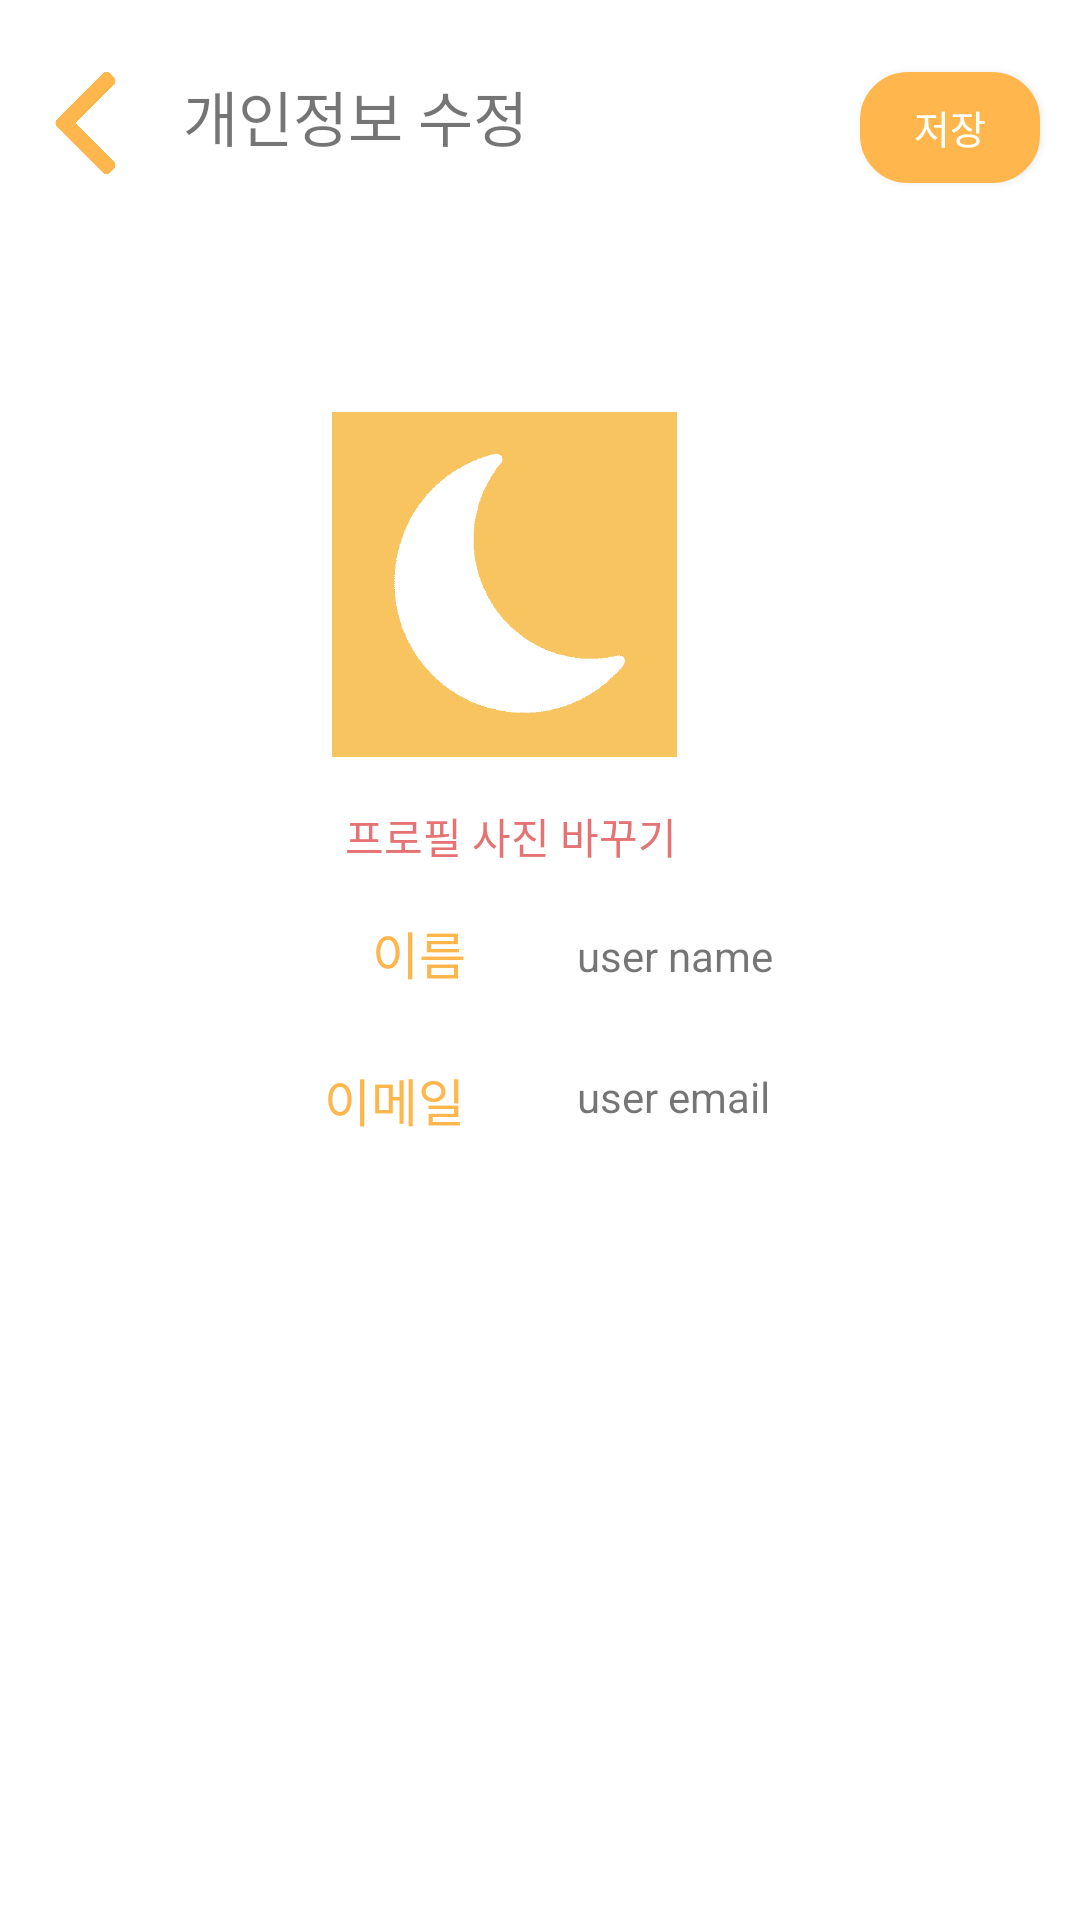

Screen size 1080px×1920px. Icon name, then its center in pixels as [x,y]:
appicon: [504,584]
leftbtn: [85,123]
